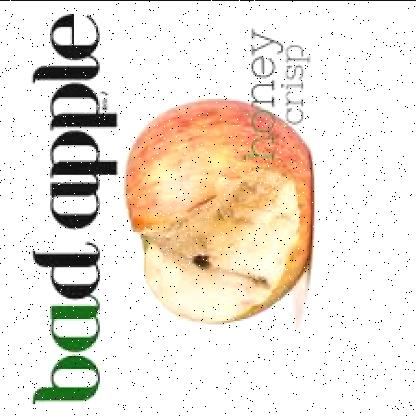damaged_apple: (120, 92, 314, 328)
